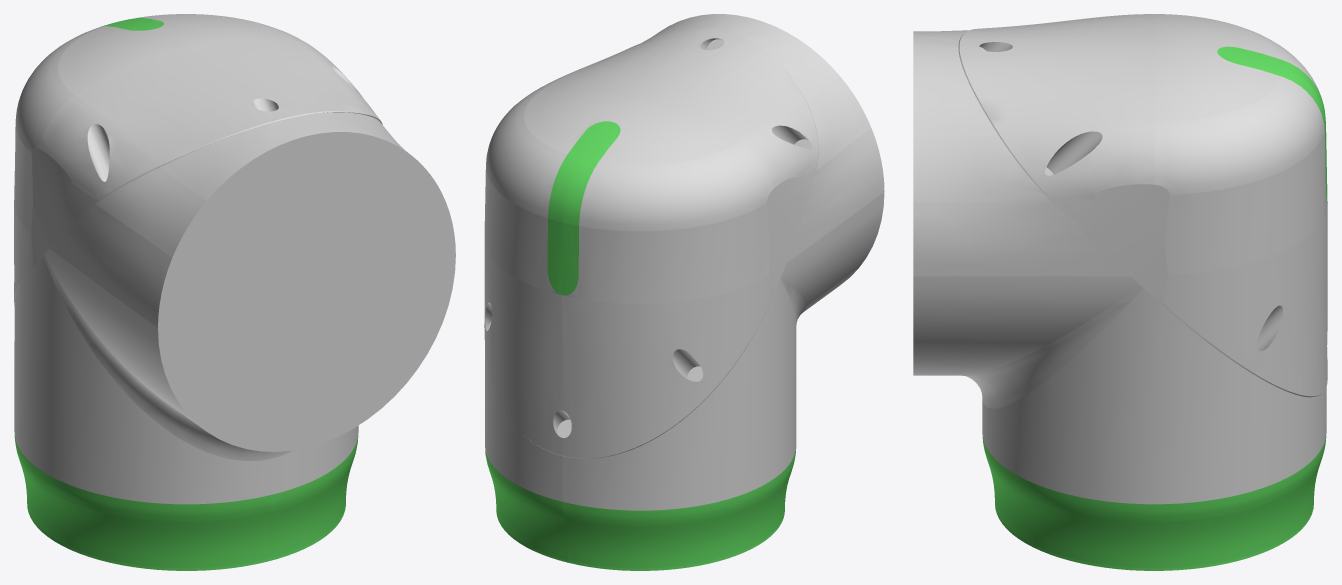
The picture shows the model from 3 angles, left to right: view 1: azimuth 30°, elevation 25°; view 2: azimuth 150°, elevation 25°; view 3: azimuth 270°, elevation 25°; orthographic projection. The views are drawn at different scales.
Parts seen in each view (by area): view 1: Mesh_0.002; view 2: Mesh_0.002; view 3: Mesh_0.002.
Part boxes in pixels (box(x1,y1,x2,y2)): Mesh_0.002: box(14, 14, 455, 570); Mesh_0.002: box(484, 14, 884, 570); Mesh_0.002: box(913, 14, 1327, 570).
Bounding box in the file's own units: 0.13 × 0.1564 × 0.1904.
